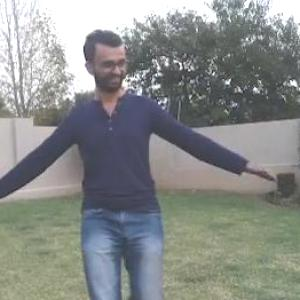land: (0, 30, 266, 299)
